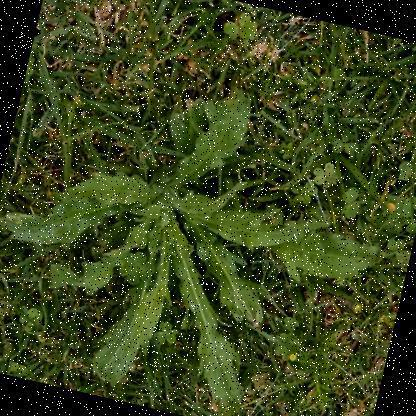Weeds: (0, 43, 413, 415)
